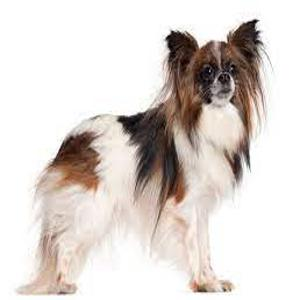yell: (16, 19, 263, 292)
